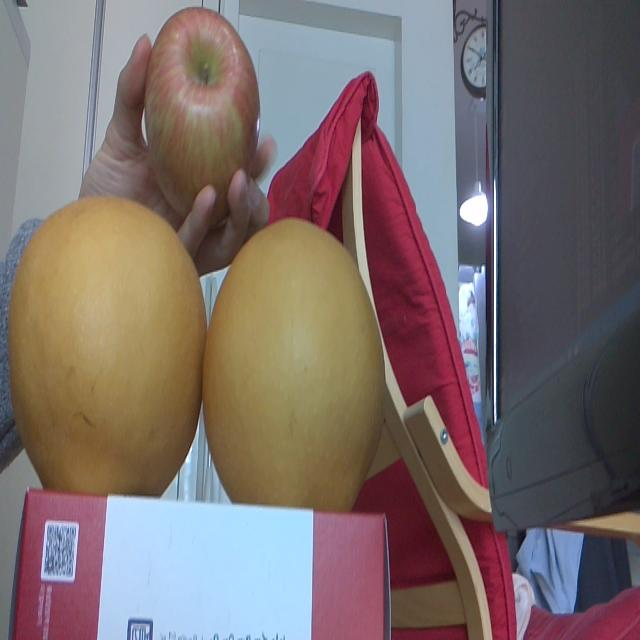apple: (141, 5, 265, 228)
pear: (7, 195, 205, 500)
